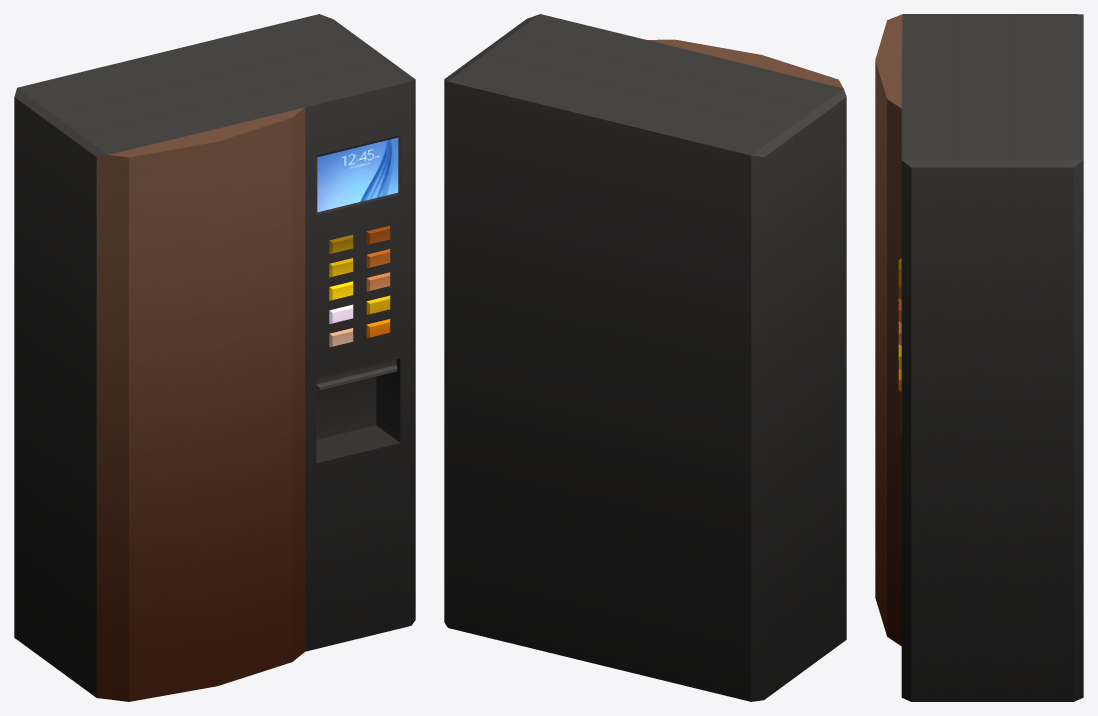
Rendered from VendingMachine_HotBeverages.fbx.
The picture shows the model from 3 angles, left to right: view 1: azimuth 30°, elevation 25°; view 2: azimuth 150°, elevation 25°; view 3: azimuth 270°, elevation 25°; orthographic projection.
Visible parts, largest first — view 1: VendingMachine_HotBeverages; view 2: VendingMachine_HotBeverages; view 3: VendingMachine_HotBeverages.
Boxes of the visible parts, x1,y1,x2,y2 form: VendingMachine_HotBeverages: [14, 14, 415, 701]; VendingMachine_HotBeverages: [444, 14, 846, 701]; VendingMachine_HotBeverages: [875, 14, 1083, 701].
Bounding box in the file's own units: 132 × 215 × 75.54.
